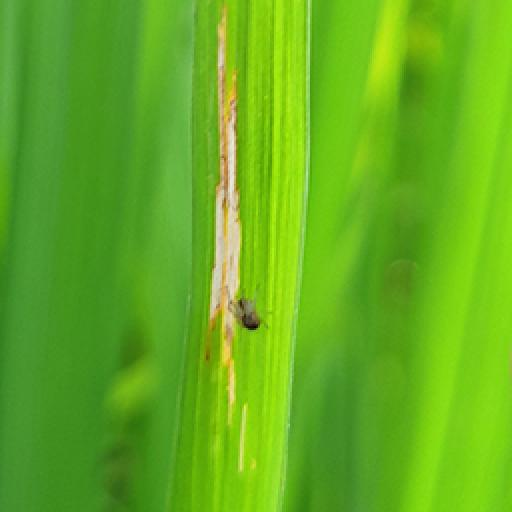Bacterial Leaf Blight: (202, 6, 276, 480)
